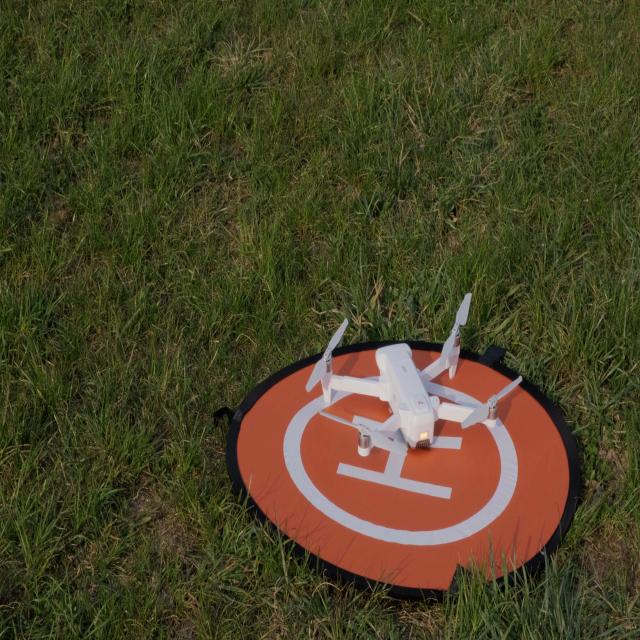drone: (305, 291, 523, 459)
